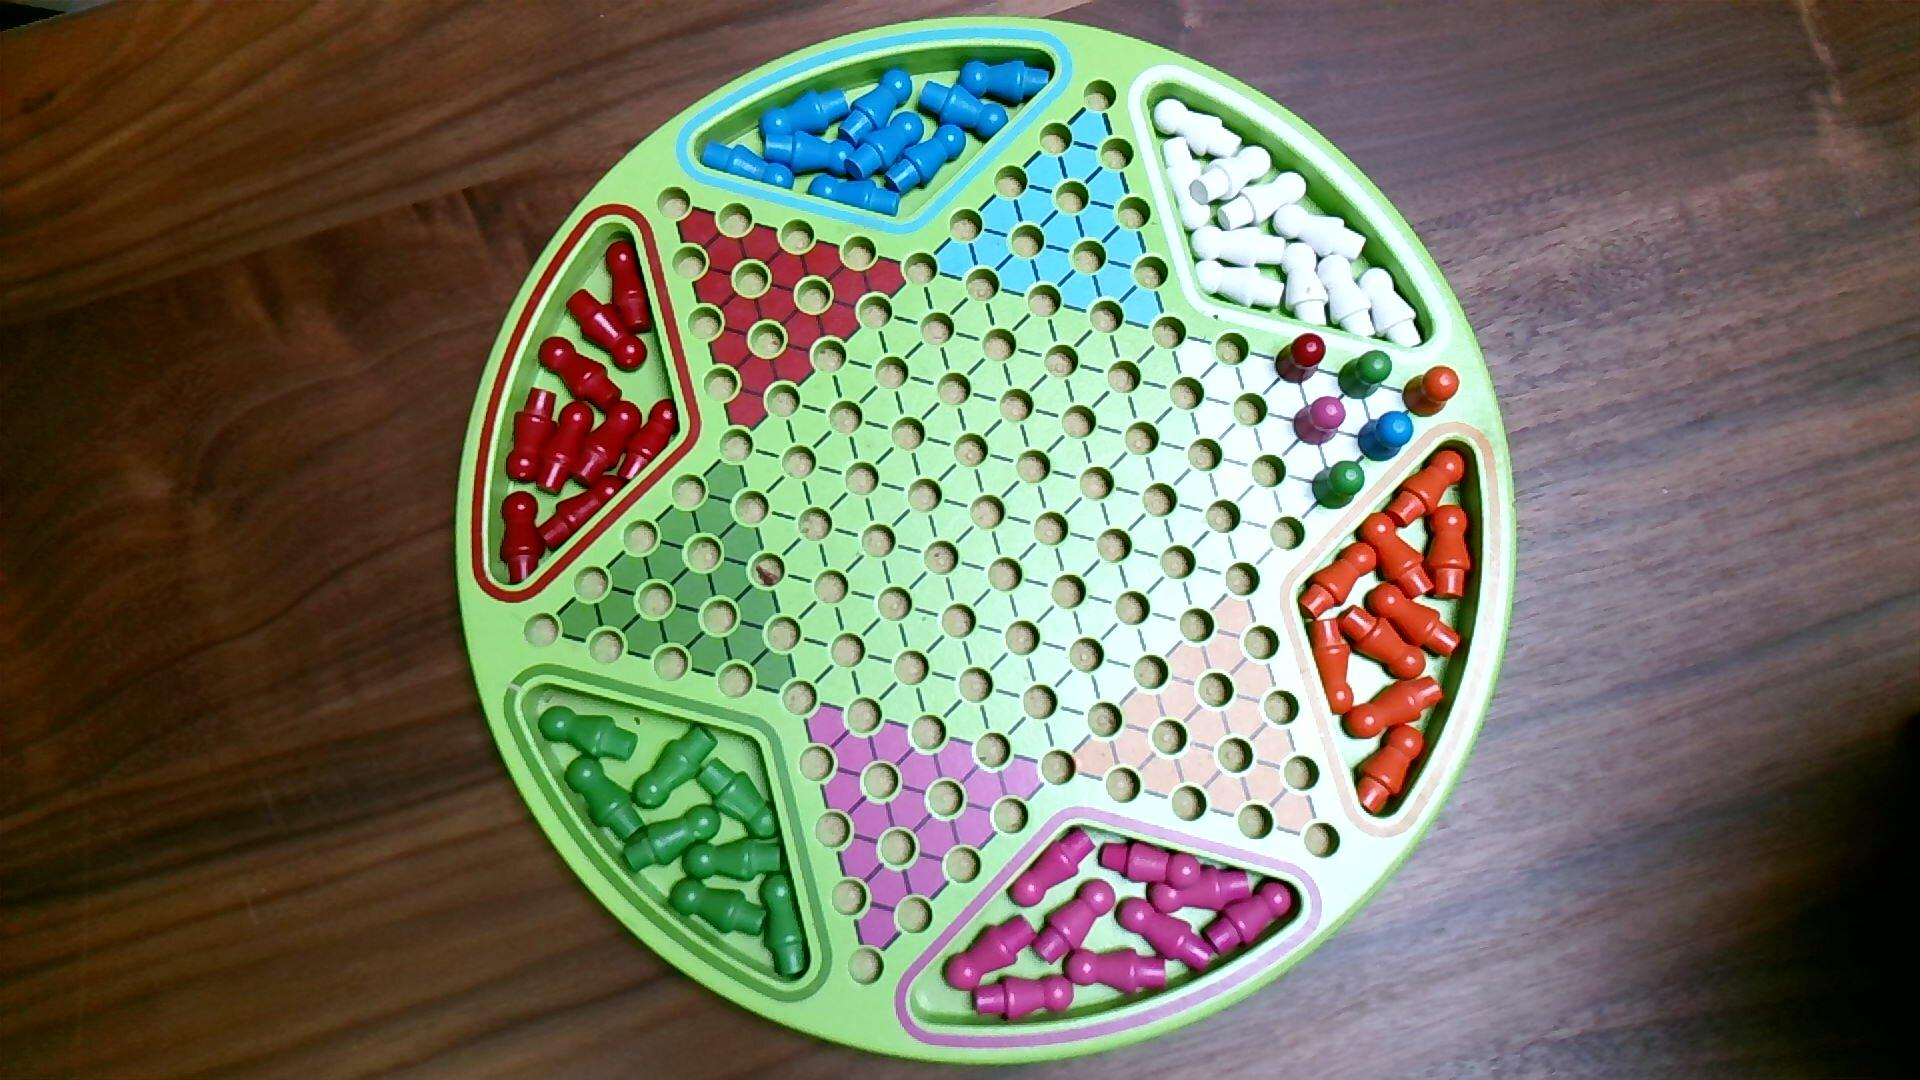B: (1357, 407, 1418, 464)
G: (1335, 347, 1395, 402), (1309, 458, 1367, 512)
O: (1402, 364, 1462, 419)
R: (1274, 330, 1329, 386)
R2: (1294, 394, 1348, 447)
